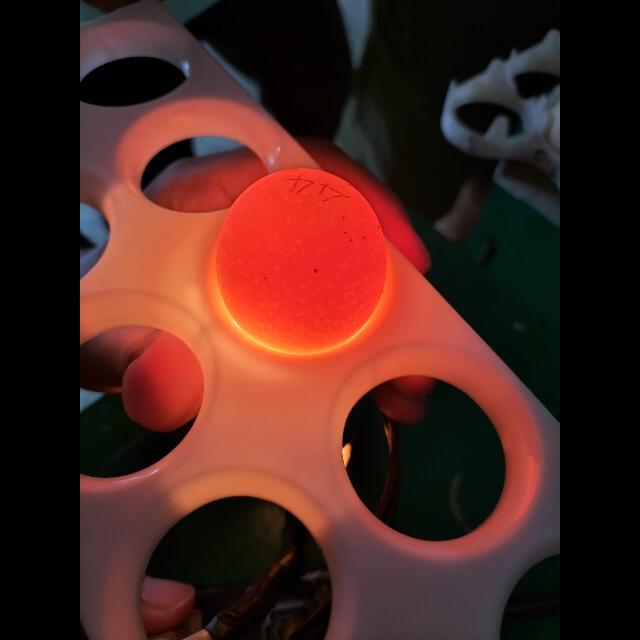Infertile: (212, 165, 390, 348)
